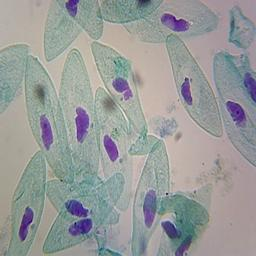Paramecium: (42, 173, 124, 252), (25, 54, 74, 183), (166, 32, 223, 137), (91, 42, 149, 136), (212, 49, 256, 167), (59, 48, 97, 183), (94, 87, 133, 210), (131, 141, 171, 255), (6, 151, 46, 256), (125, 0, 219, 43), (157, 183, 213, 255), (44, 1, 83, 61), (1, 43, 30, 114), (98, 1, 164, 23), (229, 5, 255, 48)
